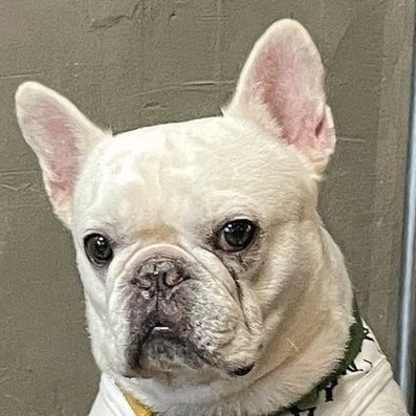bulldog: (15, 21, 376, 416)
